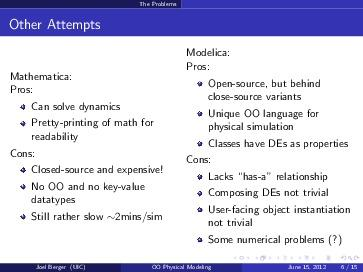paragraph: (194, 167, 355, 253), (192, 76, 357, 154), (13, 162, 183, 235), (17, 99, 159, 144)
subtitle: (6, 68, 94, 95), (178, 39, 243, 74), (184, 150, 217, 168), (7, 145, 42, 160)
title: (7, 13, 114, 38)
